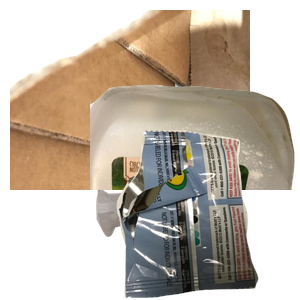cardboard: (10, 10, 250, 190)
glass: (94, 184, 253, 300)
plastic: (90, 82, 300, 262)
trash: (114, 130, 300, 300)
